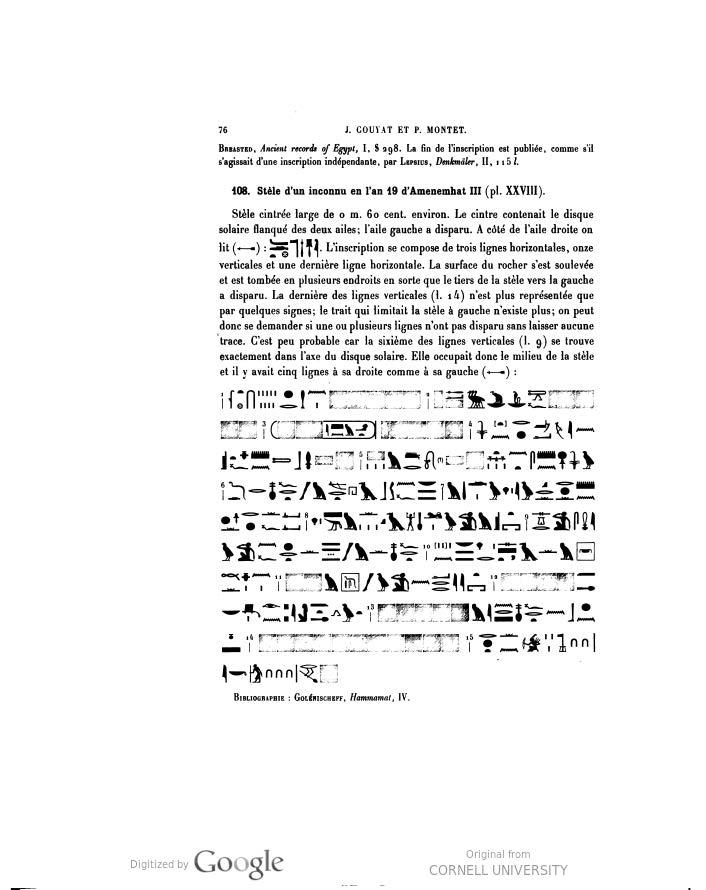circle: (265, 412, 384, 448)
